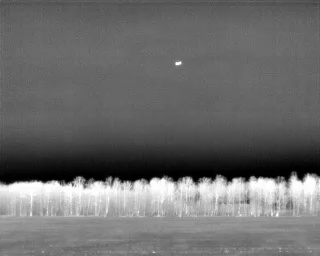DRONE: (172, 57, 185, 70)
